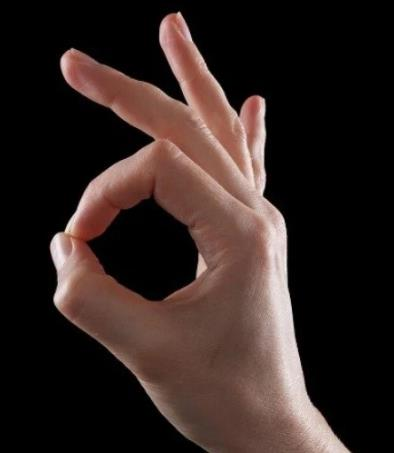left: (45, 8, 306, 403)
